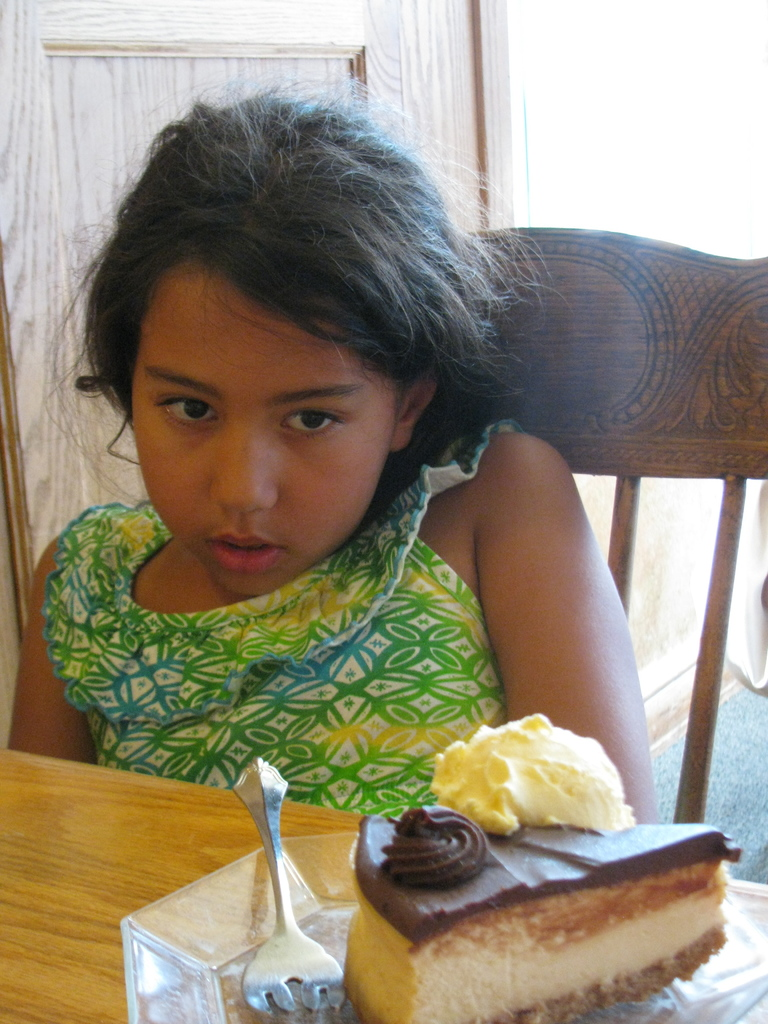cake: (336, 710, 745, 1021)
